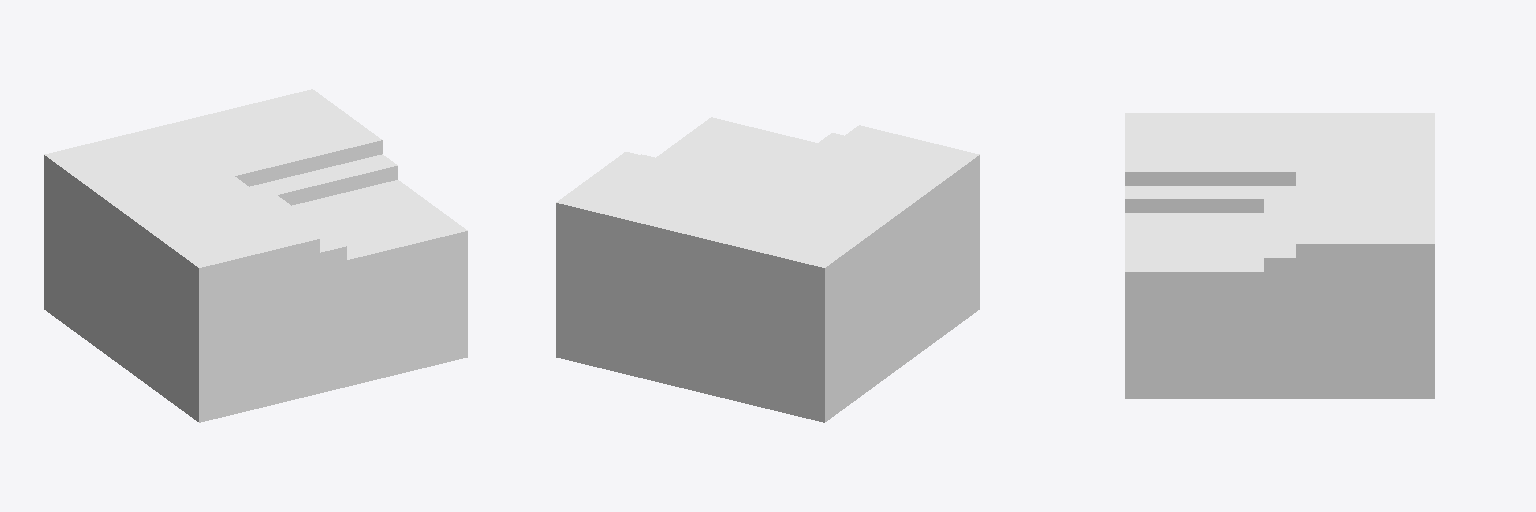
File: Water_3.obj
The picture shows the model from 3 angles: view 1: azimuth 30°, elevation 25°; view 2: azimuth 150°, elevation 25°; view 3: azimuth 270°, elevation 25°; orthographic projection.
Parts seen in each view (by area): view 1: Water_3; view 2: Water_3; view 3: Water_3.
Boxes of the visible parts, box(x1,y1,x2,y2) form: Water_3: box(44, 89, 467, 422); Water_3: box(556, 117, 979, 422); Water_3: box(1125, 113, 1434, 398).
Bounding box in the file's own units: 20 × 11 × 20.